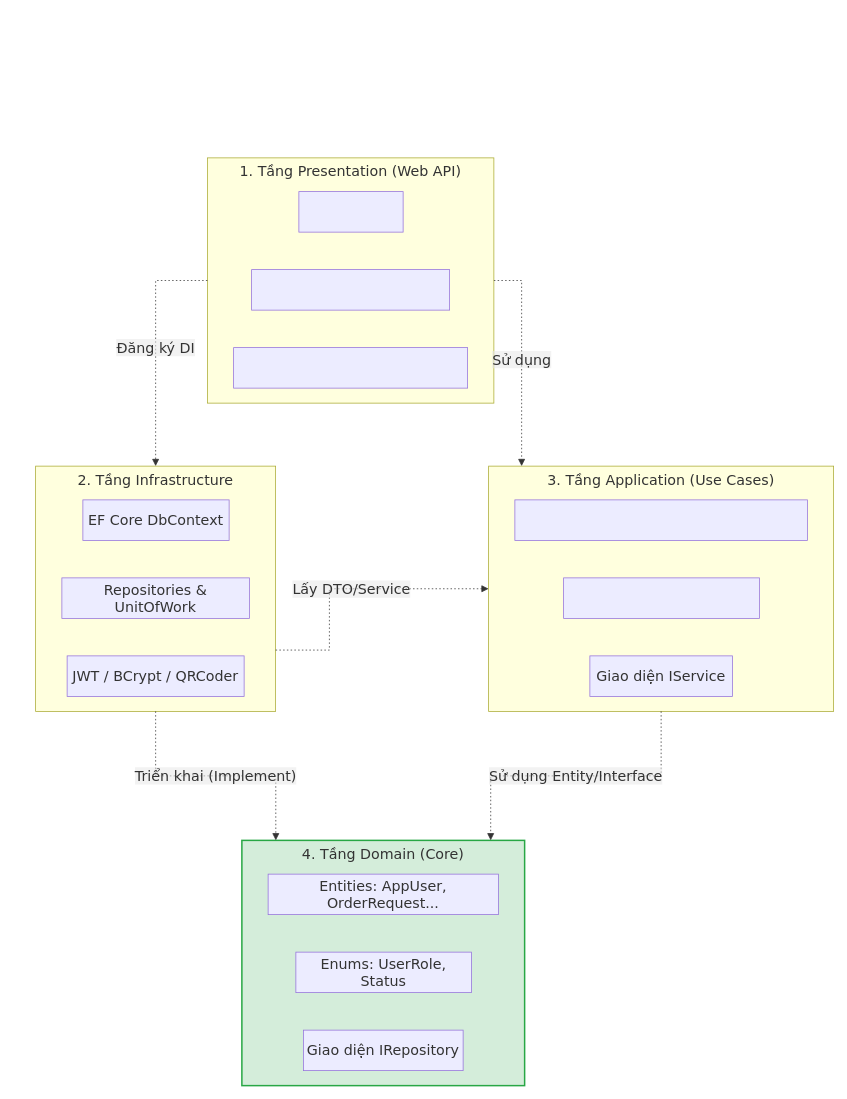
Image size: 847x1099. Some labels were removed from this diagram. Here are the shapes that lost their labels. From the top down, the centre of each, then its label:
At pixel 350 211: "Controllers".
At pixel 350 289: "Exception/Audit Middleware".
At pixel 350 367: "Dependency Injection (Program.cs)".
At pixel 660 519: "Logic Nghiệp vụ: OrderService, AuthService...".
At pixel 661 597: "Data Transfer Objects (DTO)".
